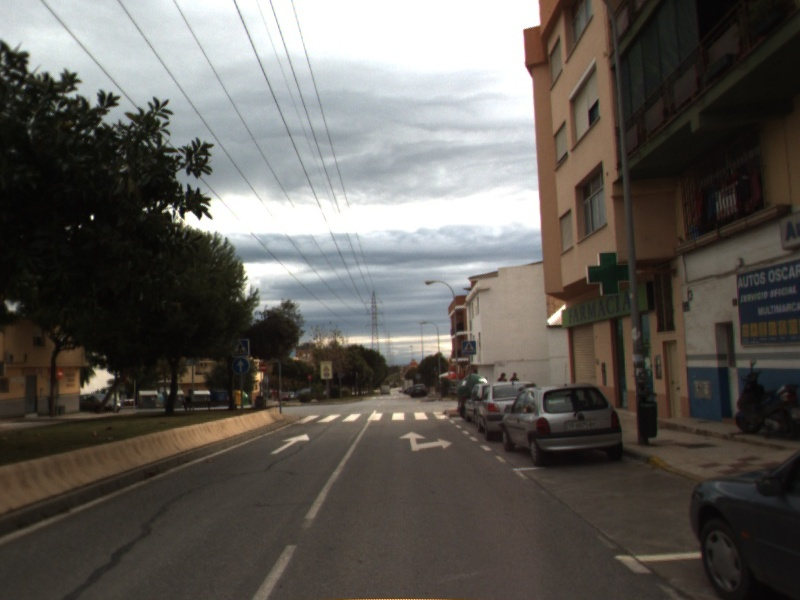STRAIGHT: (268, 431, 312, 456)
STRAIGHT_RIGHT: (398, 429, 455, 453)
